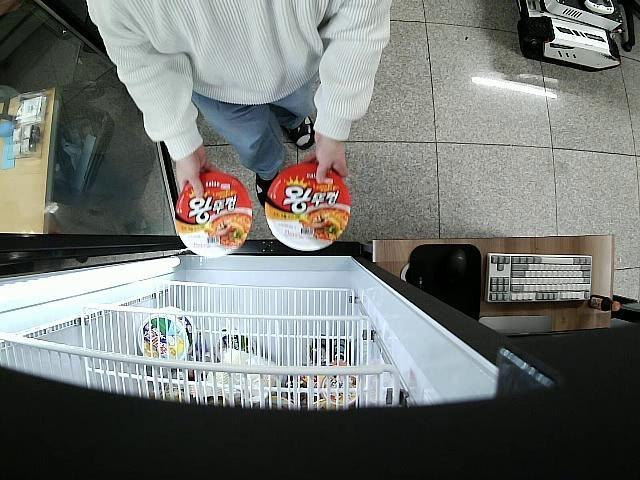10_wangTtukkeong: (264, 162, 350, 252), (176, 173, 253, 259)
